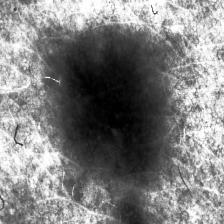Benign Marking or Mole: (55, 29, 163, 176)
